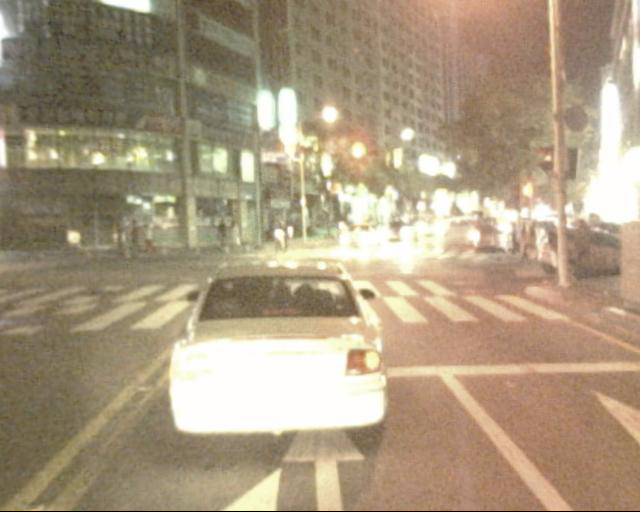person: (570, 220, 594, 289), (552, 223, 576, 282), (213, 216, 244, 258), (123, 214, 146, 258), (511, 224, 533, 270), (139, 215, 161, 260), (269, 224, 292, 264)
